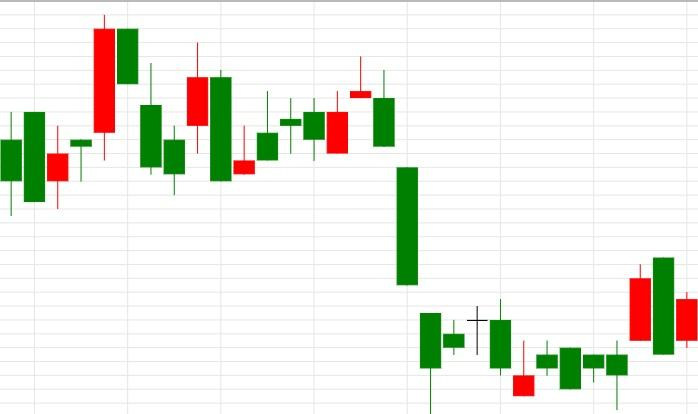bearish_engulfing_fall: (512, 257, 674, 410)
inverse_hammer_rise: (186, 42, 256, 181)
